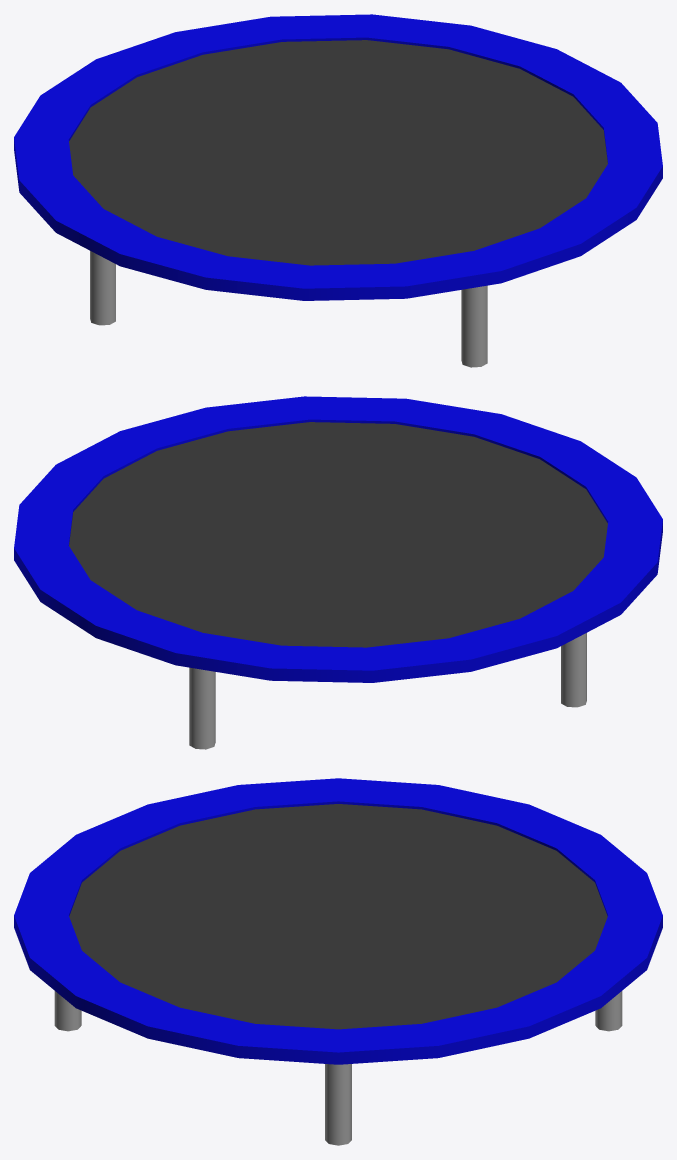
Rendered from SM_Trampoline_01.fbx.
3 views of the same model, one above another, from view 1: azimuth 30°, elevation 25°; view 2: azimuth 150°, elevation 25°; view 3: azimuth 270°, elevation 25° (orthographic).
Parts seen in each view (by area): view 1: SM_Trampoline_01; view 2: SM_Trampoline_01; view 3: SM_Trampoline_01.
Boxes of the visible parts, x1,y1,x2,y2 form: SM_Trampoline_01: (14, 14, 662, 367); SM_Trampoline_01: (14, 396, 662, 749); SM_Trampoline_01: (14, 778, 662, 1145).
Bounding box in the file's own units: 240 × 45 × 240.
